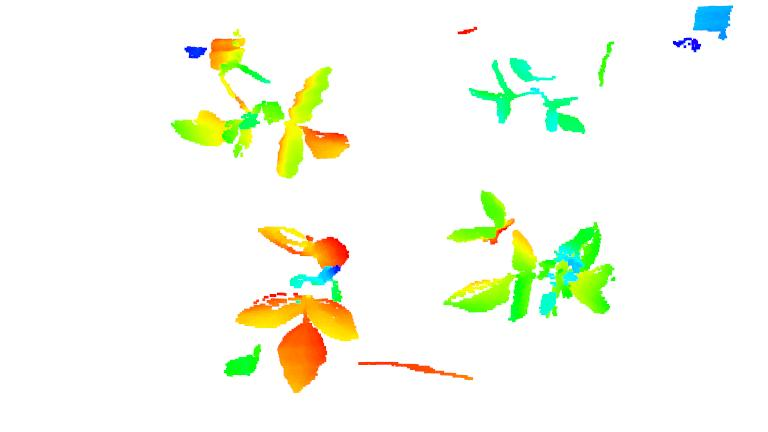mungbean: (160, 32, 350, 181), (437, 191, 617, 327), (222, 223, 359, 395), (470, 57, 586, 137)
